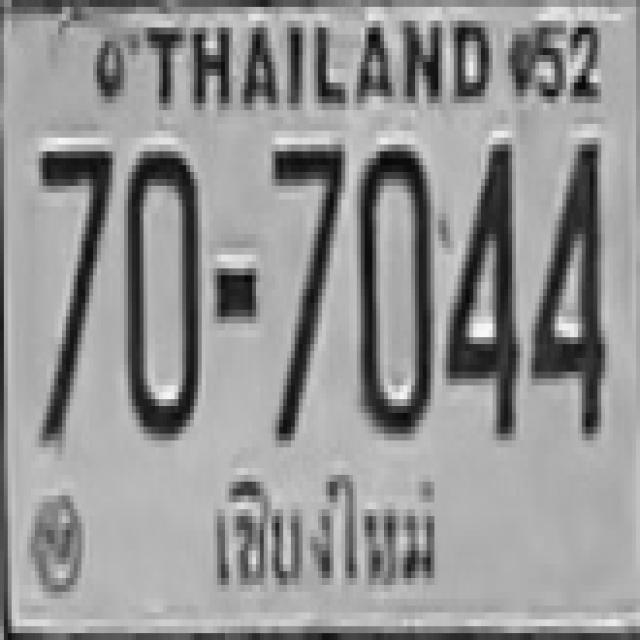0: (124, 144, 198, 433), (357, 138, 430, 426)
4: (528, 130, 601, 434), (442, 138, 516, 434)
7: (35, 141, 109, 437), (268, 138, 341, 434)
ChiangMai: (203, 457, 450, 605)
